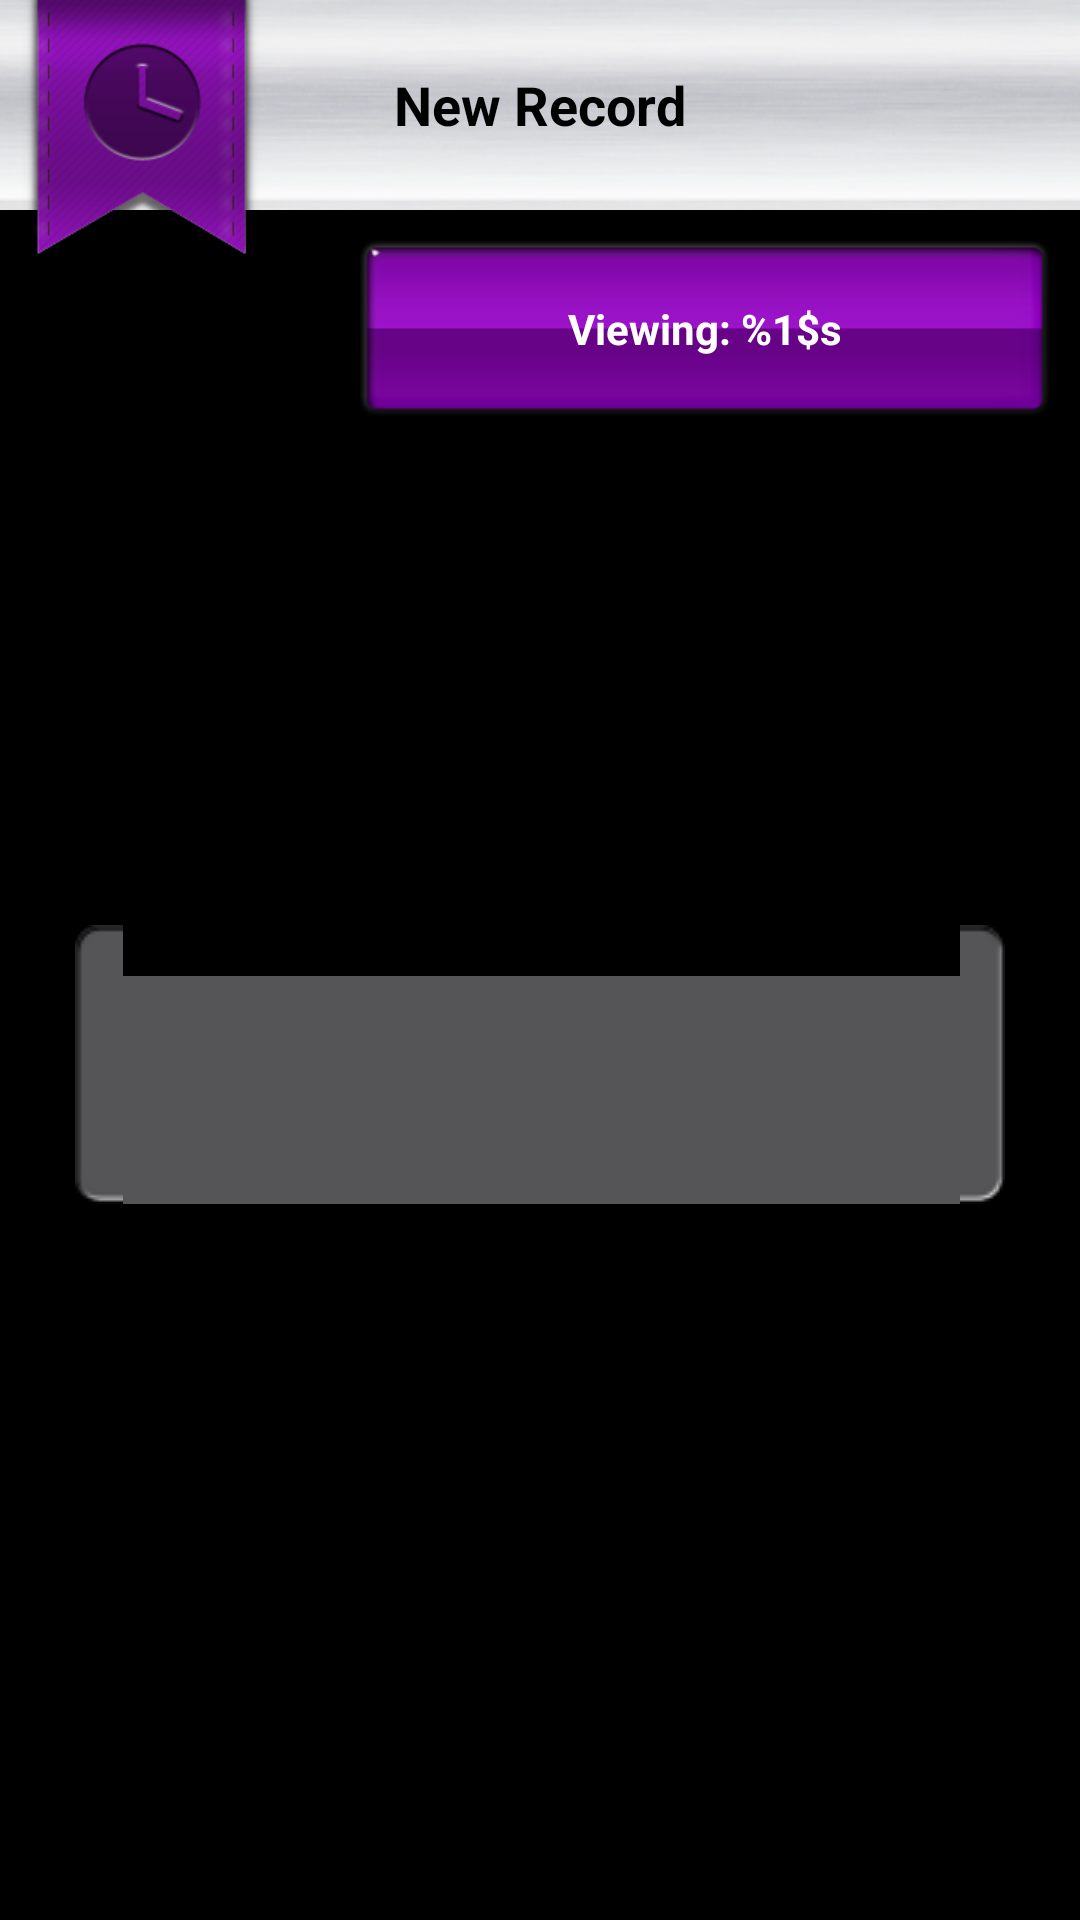

Icons on this 1080 x 1920 Android screen, each with the point to tap as (x,y):
ribbon: (141,133)
